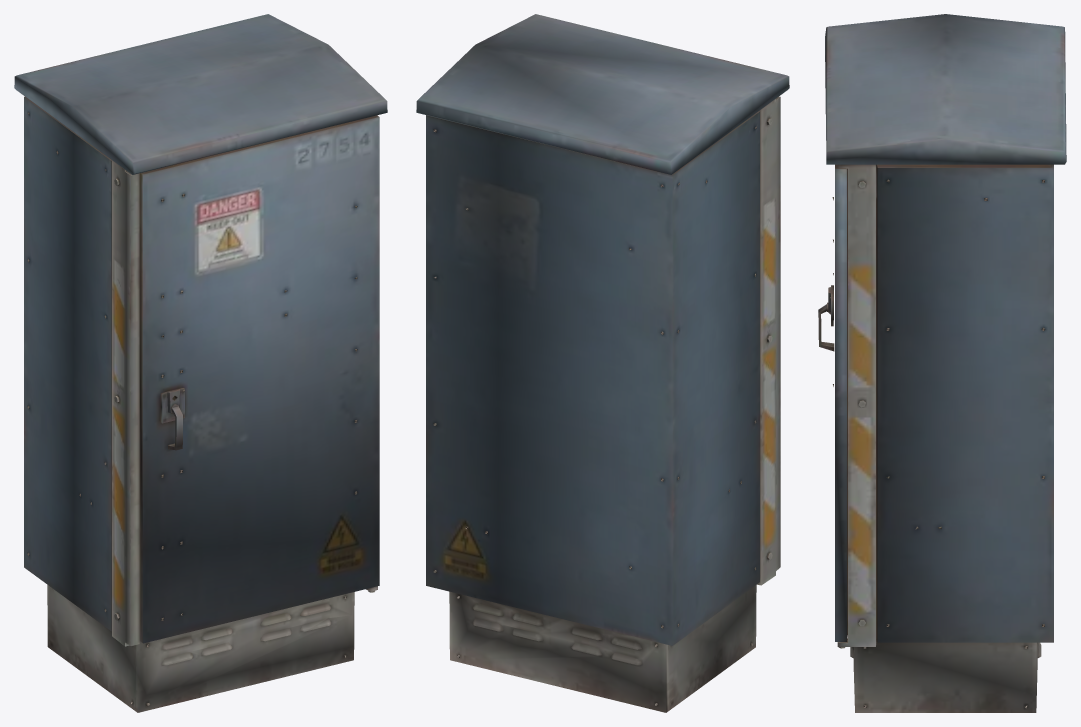
Rendered from utility_box_01.glb.
3 views of the same model, side by side, from view 1: azimuth 30°, elevation 25°; view 2: azimuth 150°, elevation 25°; view 3: azimuth 270°, elevation 25° (orthographic).
Parts seen in each view (by area): view 1: utility_box_01_box; view 2: utility_box_01_box; view 3: utility_box_01_box.
Part boxes in pixels (x1=…): utility_box_01_box: x1=14, y1=14, x2=387, y2=712; utility_box_01_box: x1=416, y1=14, x2=789, y2=712; utility_box_01_box: x1=818, y1=14, x2=1066, y2=712.
Bounding box in the file's own units: 0.5164 × 1.12 × 0.4312.
Materials: 1 (1 with a texture image).
